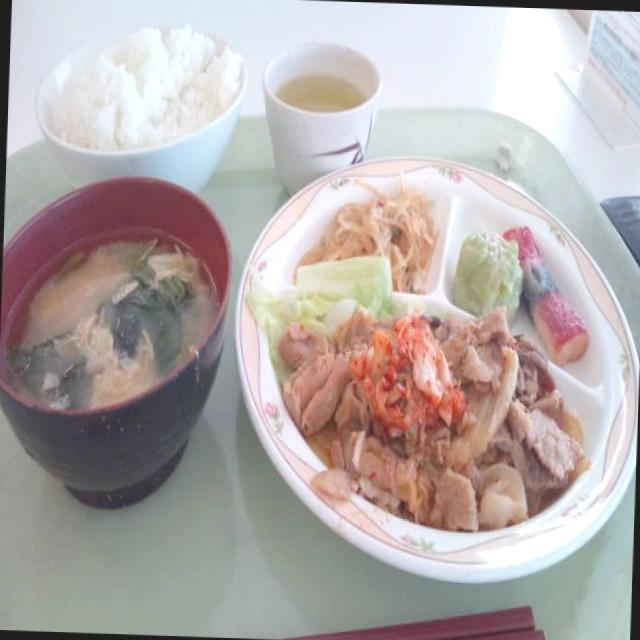Rice: (39, 19, 247, 150)
